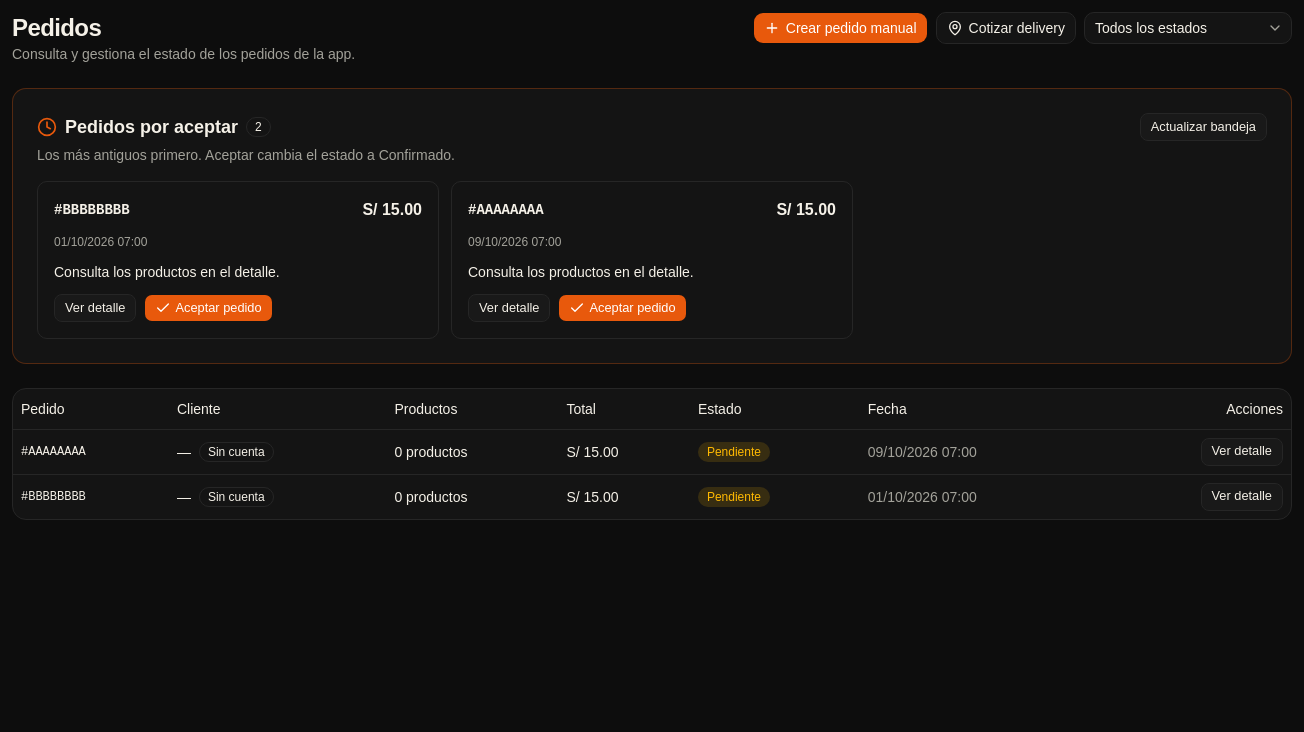
Scenario: accepts officially, removes from tray and retains confirmed order in general table
The image size is (1304, 732).
Step 1. Click the 1st button "Aceptar pedido" → click(209, 308), box [144,294,273,322]
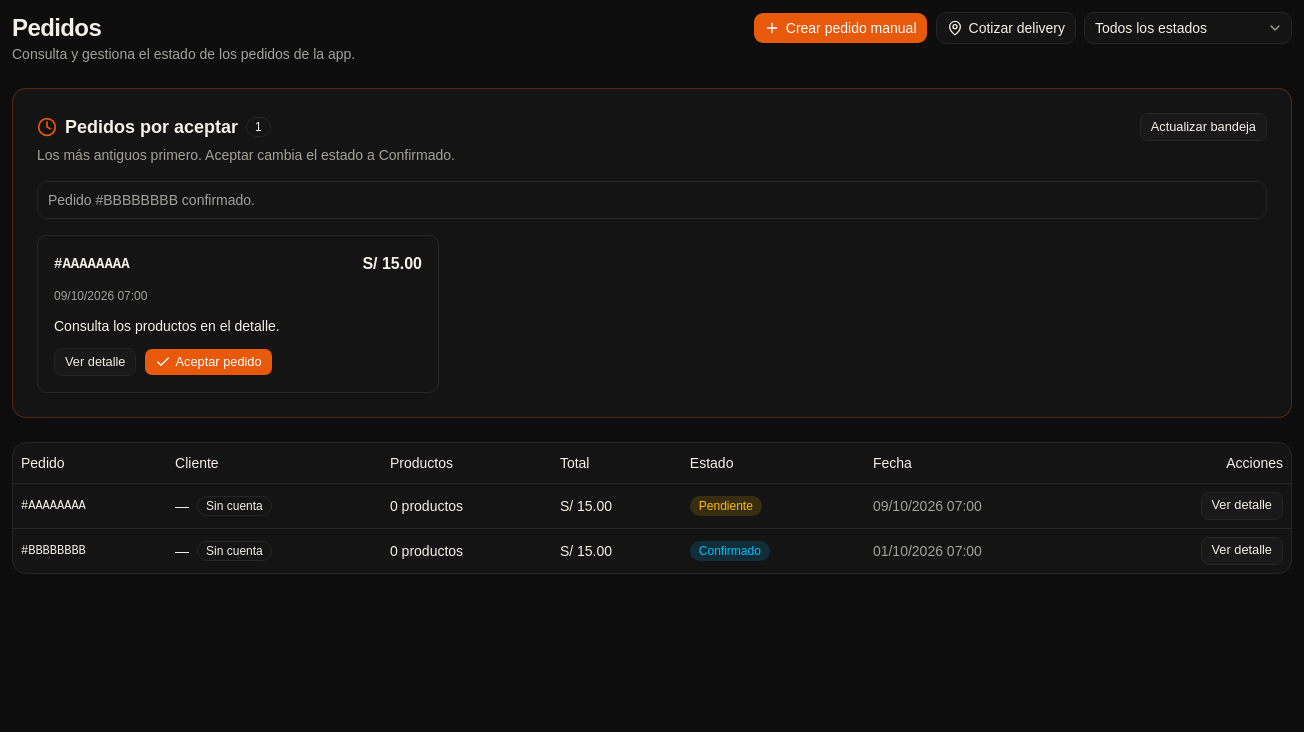
Now the table shows "Confirmado", box [699,544,761,558]
Now the icon named "Cantidad de pedidos por aceptar" reads "1", box [255,120,262,134]
Now the text "Pedido #BBBBBBBB confirmado." is shown, box [48,192,255,208]
